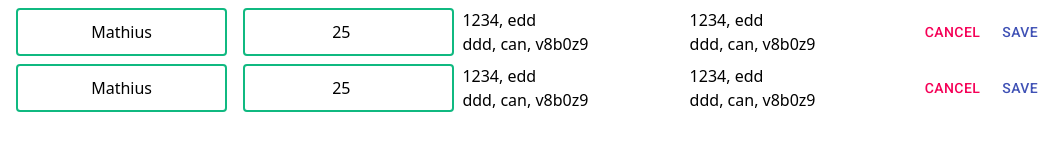
it: Edit Person › cancels editing a person and resets the placeholder value
Step 1. Replace the text in the 1st field with placeholder "Enter Name" with "Joe" → (122, 32), box [16, 8, 227, 56]
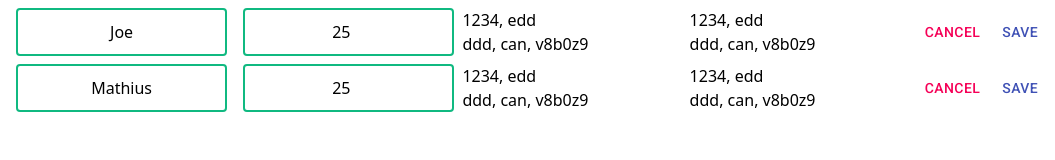
Step 2. Click the 1st button "Cancel" → (952, 32), box [917, 14, 988, 50]
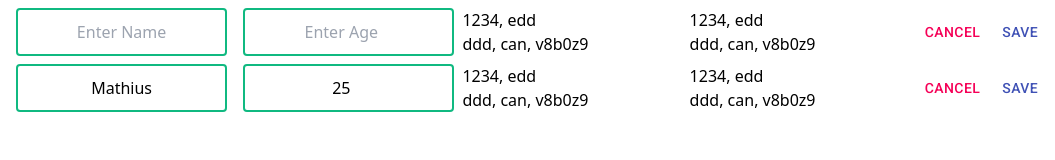
Expected: the field with placeholder "Enter Name" is empty, [16, 8, 227, 56]
Expected: the number field with placeholder "Enter Age" is not empty, [243, 8, 454, 56]
